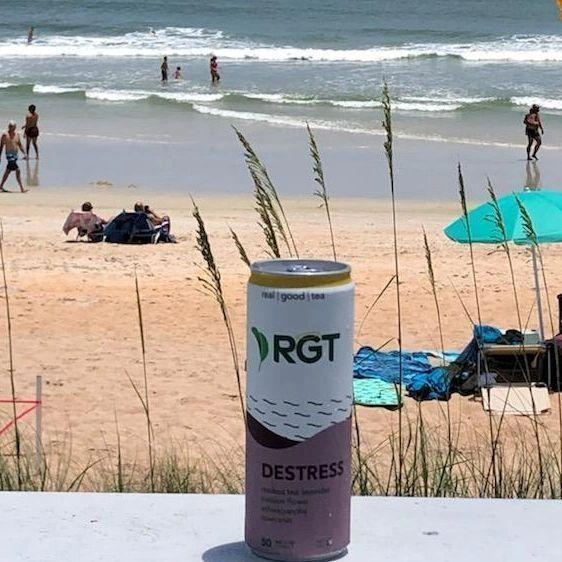tin can: (237, 253, 358, 562)
